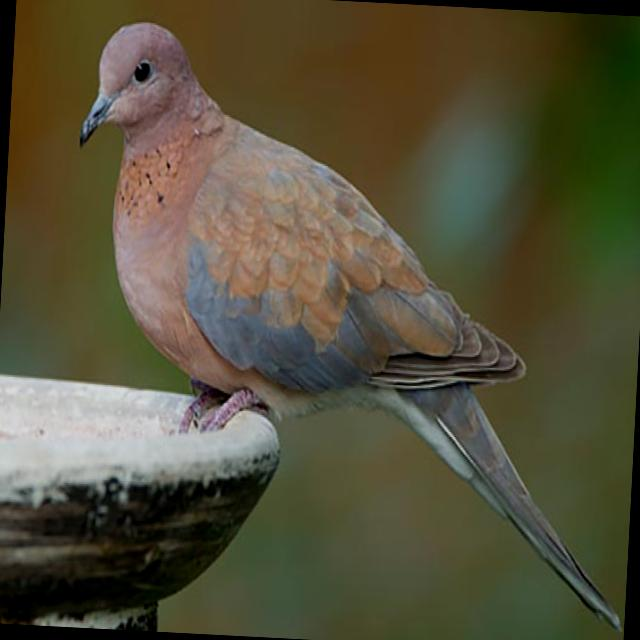bird: (48, 9, 640, 639)
